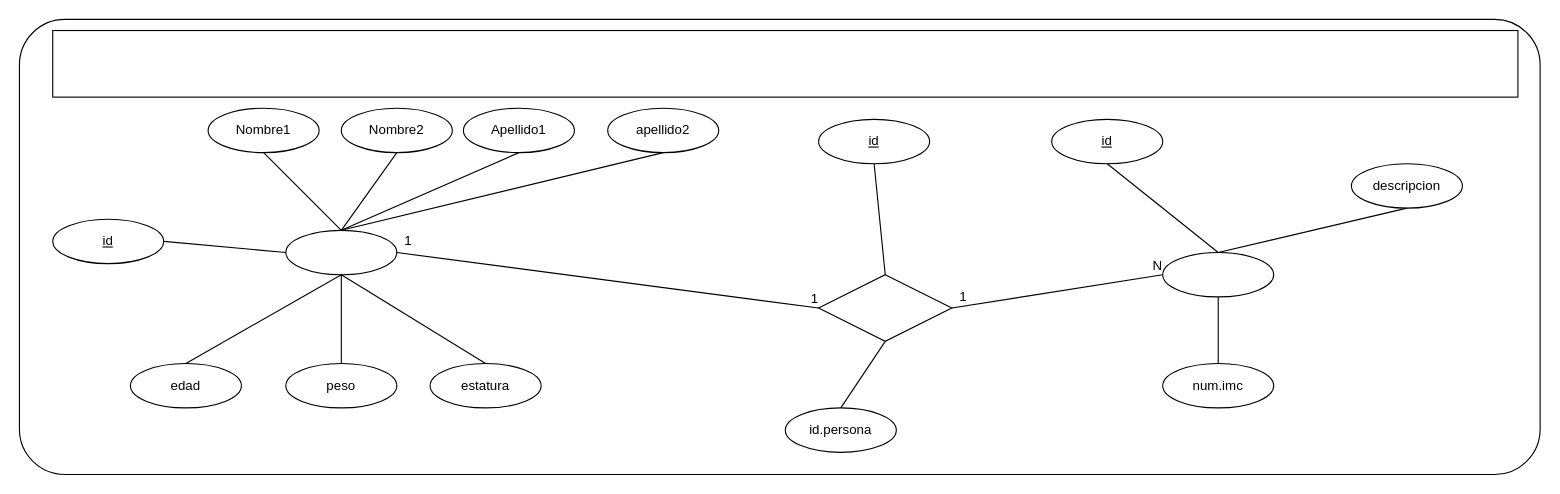
This 1560x494 diagram has some shape labels left out. The shapes that lost their labels are listed below. From the top down, each one's centre as x and y in pixels, then its label:
At point (785, 63): "DIAGRAMA ENTIDAD RELACION".
At point (341, 252): "persona".
At point (1218, 274): "indicaciones".
At point (885, 307): "imc".
